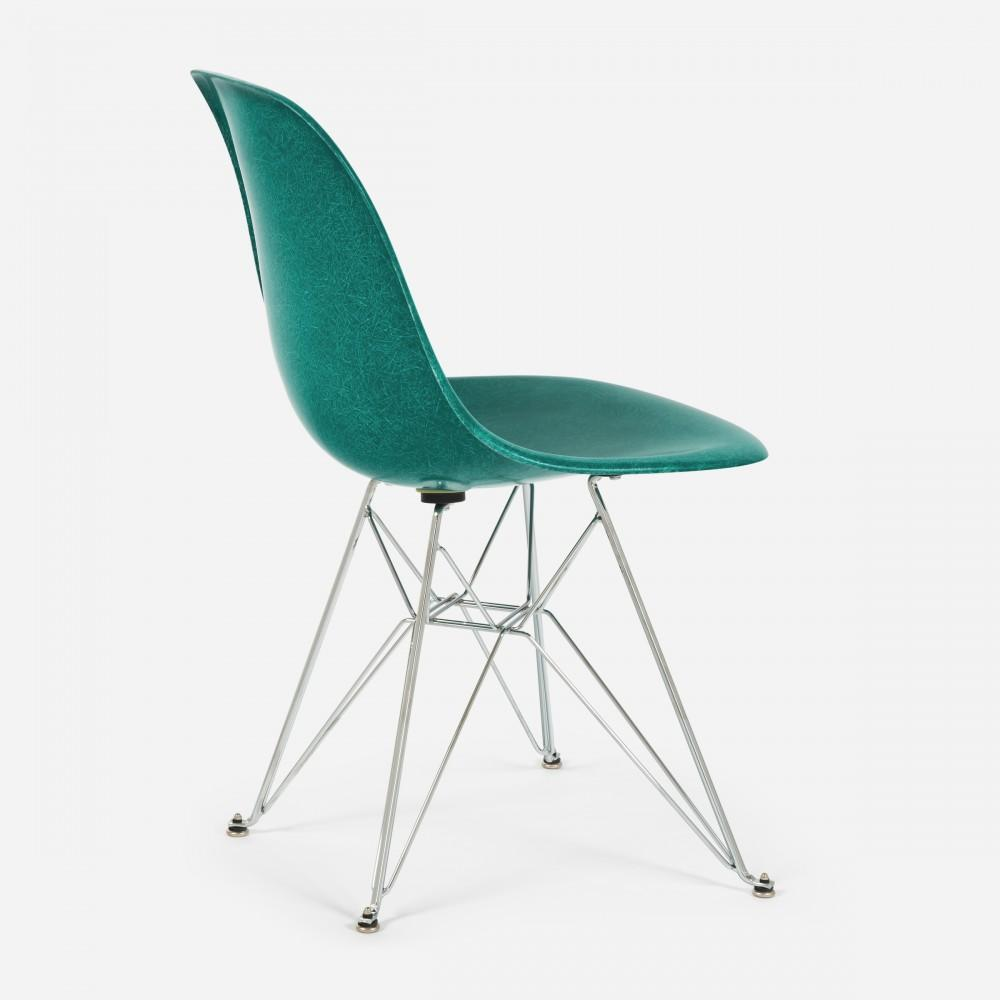chair: (112, 43, 829, 966)
